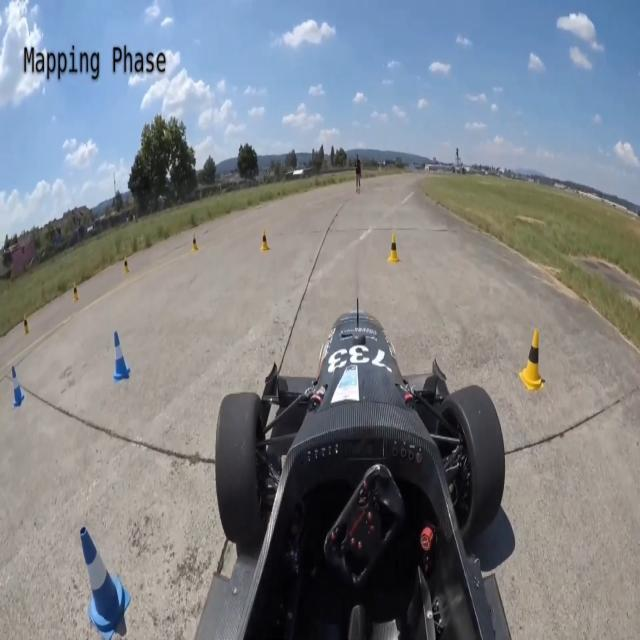blue_cone: (80, 525, 130, 640), (113, 330, 131, 383), (11, 365, 26, 408)
yellow_cone: (519, 328, 545, 390), (388, 232, 400, 264), (260, 229, 270, 251), (192, 233, 198, 252)
